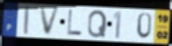0: (135, 12, 153, 40)
1: (113, 10, 122, 40)
I: (24, 5, 31, 36)
L: (67, 9, 84, 37)
Q: (86, 9, 108, 39)
V: (39, 7, 62, 37)
